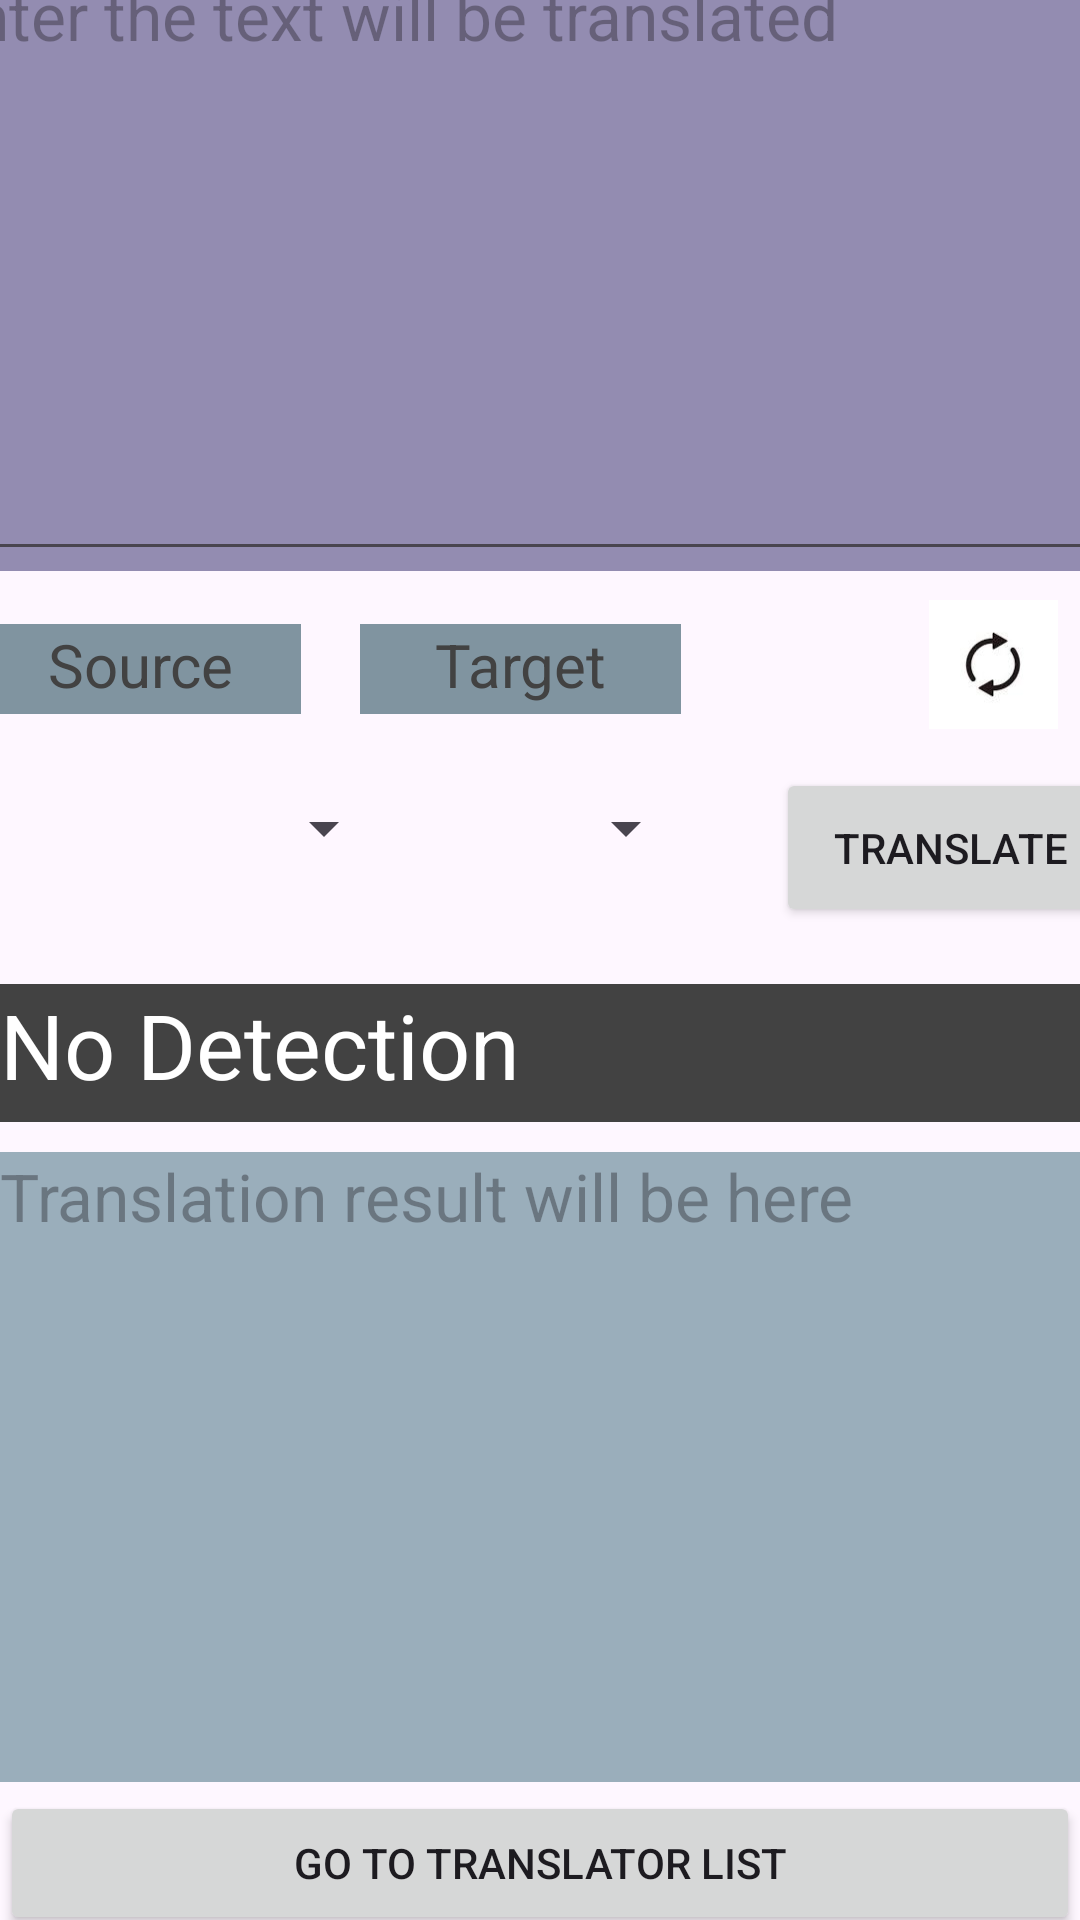

Screen size 1080x1920. Icon name, then its center in pixels as [x,y]:
reverse: [993,664]
